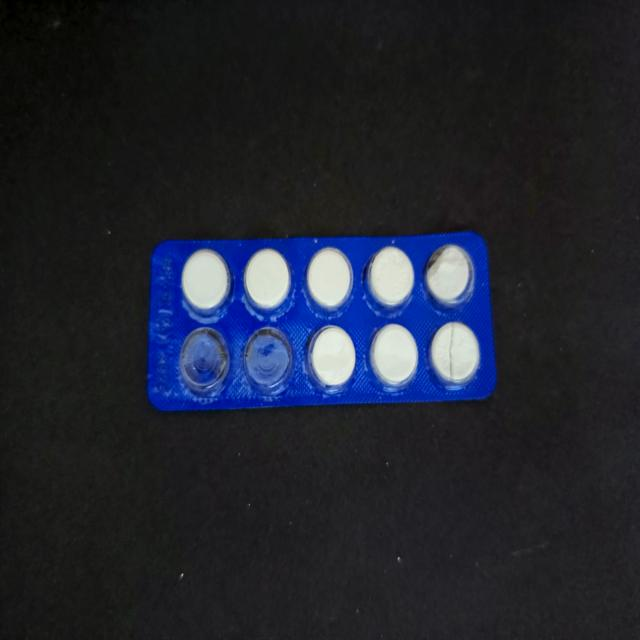defect: (241, 324, 296, 400), (178, 325, 232, 400), (427, 319, 482, 389), (422, 241, 476, 311)
